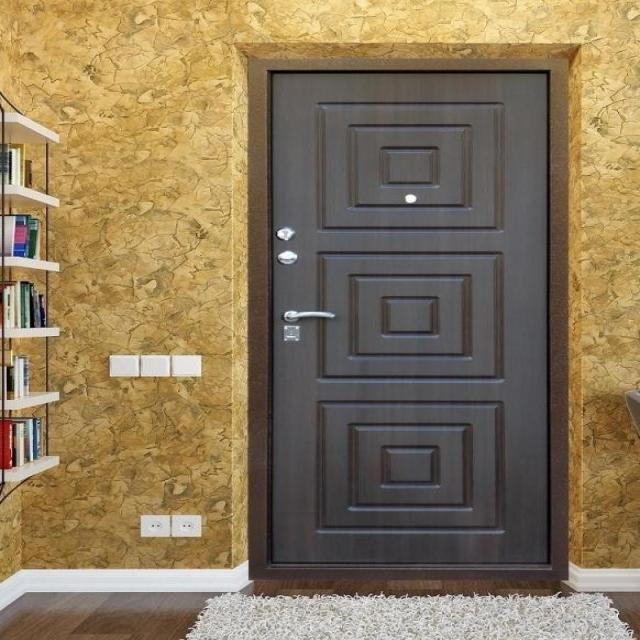close: (269, 71, 552, 578)
